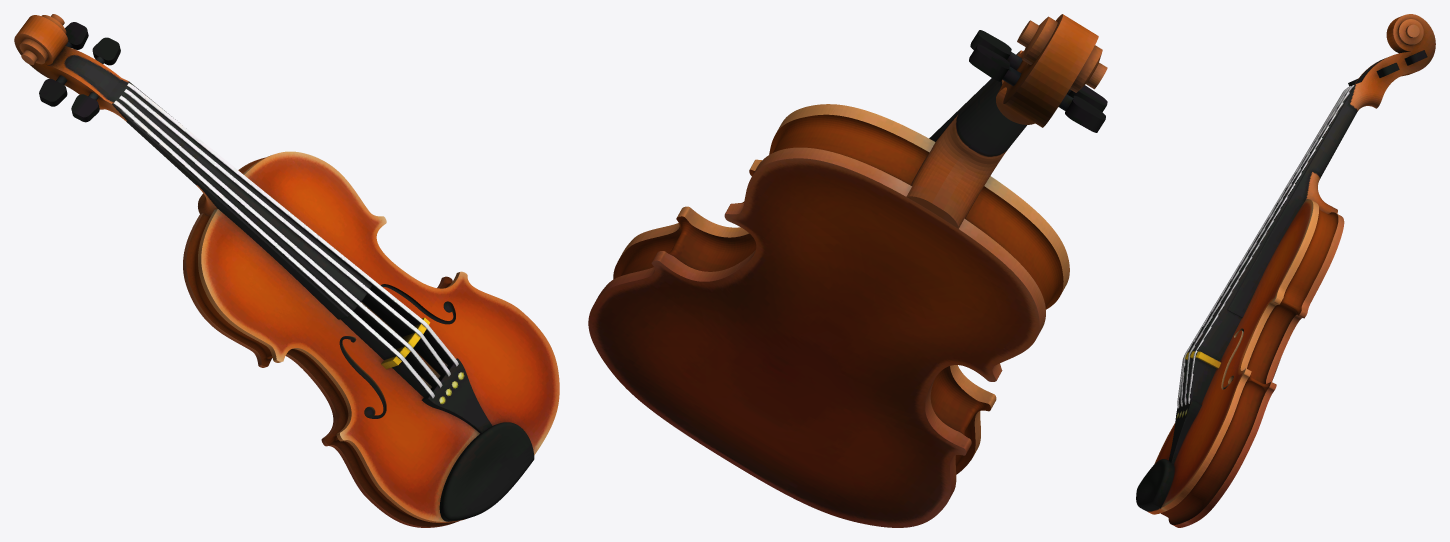
Rendered from Violin.fbx.
3 views of the same model, side by side, from view 1: azimuth 30°, elevation 25°; view 2: azimuth 150°, elevation 25°; view 3: azimuth 270°, elevation 25° (orthographic). The views are drawn at different scales.
Parts seen in each view (by area): view 1: node_id166; view 2: node_id166; view 3: node_id166.
Boxes of the visible parts, x1,y1,x2,y2 form: node_id166: (14,14,559,527); node_id166: (588,14,1107,527); node_id166: (1136,14,1435,527).
Bounding box in the file's own units: 0.3709 × 0.405 × 0.2771.
1 material, 1 textured.
